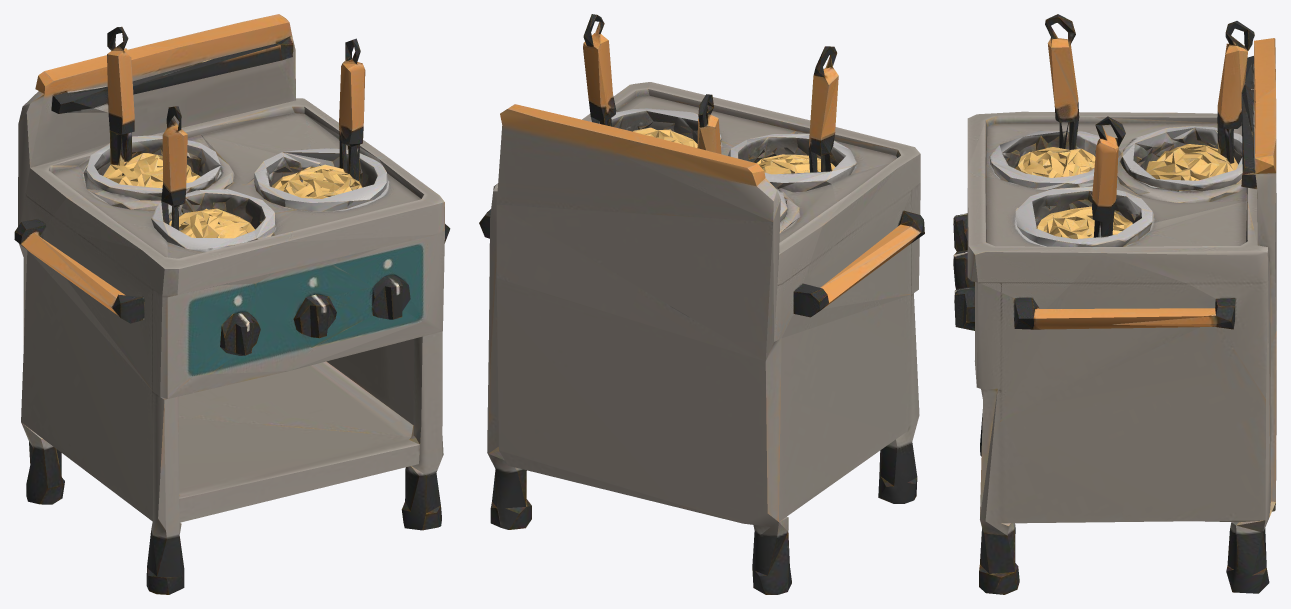
The model's file is rounded-restaurant-noodle-boiler-baskets-loaded.glb.
The picture shows the model from 3 angles, left to right: view 1: azimuth 30°, elevation 25°; view 2: azimuth 150°, elevation 25°; view 3: azimuth 270°, elevation 25°; orthographic projection. The views are drawn at different scales.
Parts seen in each view (by area): view 1: Mesh_0; view 2: Mesh_0; view 3: Mesh_0.
Boxes of the visible parts, box(x1,y1,x2,y2) form: Mesh_0: box(14, 14, 450, 594); Mesh_0: box(479, 14, 924, 594); Mesh_0: box(953, 14, 1276, 594).
Bounding box in the file's own units: 0.65 × 0.8537 × 0.5305.
1 material, 1 textured.
